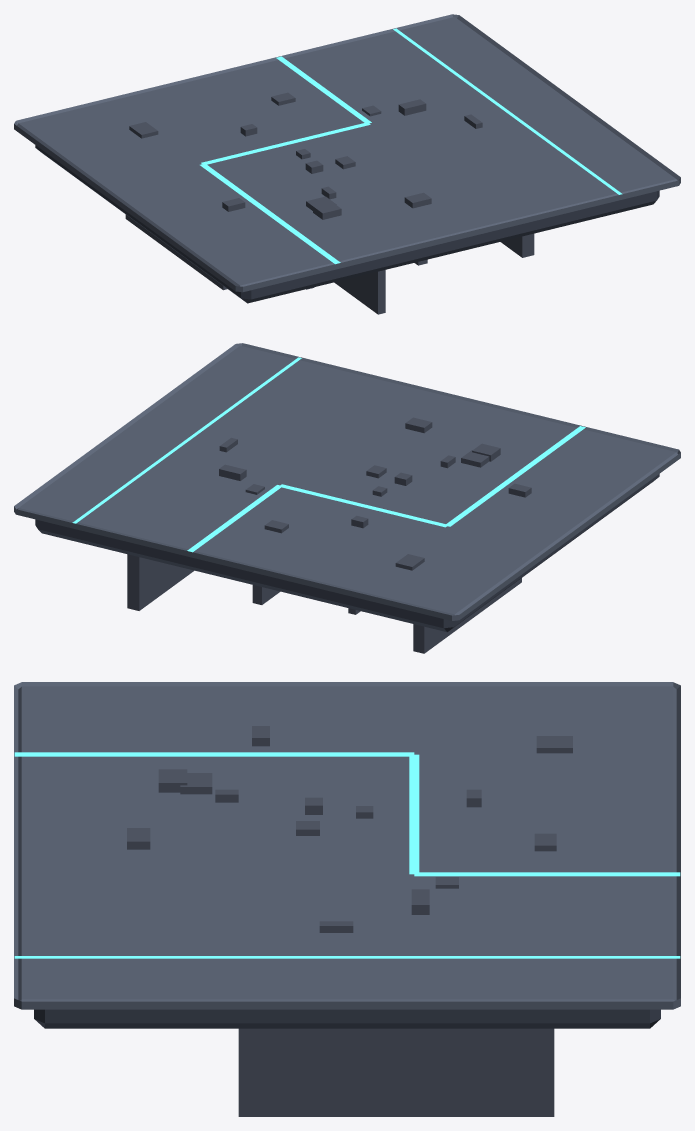
The model's file is platform_wide.glb.
3 views of the same model, one above another, from view 1: azimuth 30°, elevation 25°; view 2: azimuth 150°, elevation 25°; view 3: azimuth 270°, elevation 25° (orthographic). The views are drawn at different scales.
Parts seen in each view (by area): view 1: platform_wide; view 2: platform_wide; view 3: platform_wide.
Part boxes in pixels (x1,y1,x2,y2): platform_wide: [14, 14, 680, 314]; platform_wide: [14, 343, 680, 653]; platform_wide: [14, 682, 680, 1116].
Bounding box in the file's own units: 6.8 × 1.75 × 6.
